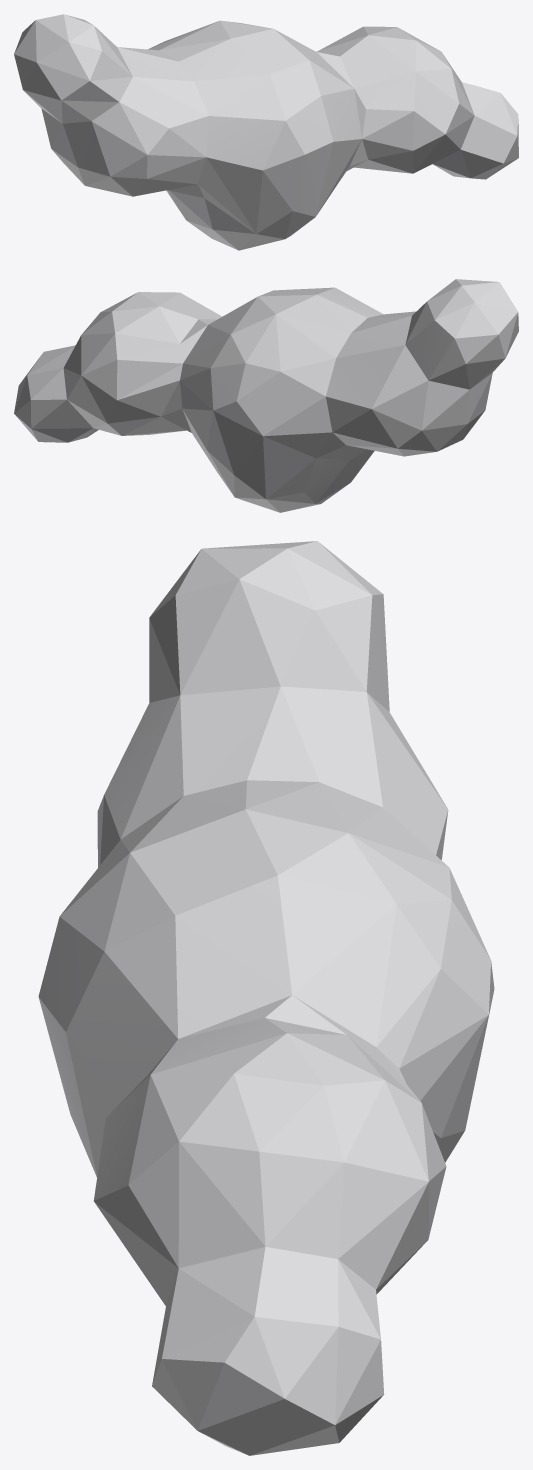
Rendered from small_cloud_16.fbx.
The picture shows the model from 3 angles, top to bottom: view 1: azimuth 30°, elevation 25°; view 2: azimuth 150°, elevation 25°; view 3: azimuth 270°, elevation 25°; orthographic projection. The views are drawn at different scales.
Parts seen in each view (by area): view 1: cloud_16; view 2: cloud_16; view 3: cloud_16.
Boxes of the visible parts, x1=… form: cloud_16: x1=14, y1=14, x2=518, y2=250; cloud_16: x1=14, y1=279, x2=518, y2=512; cloud_16: x1=38, y1=541, x2=494, y2=1455.
Bounding box in the file's own units: 458 × 237 × 186.
